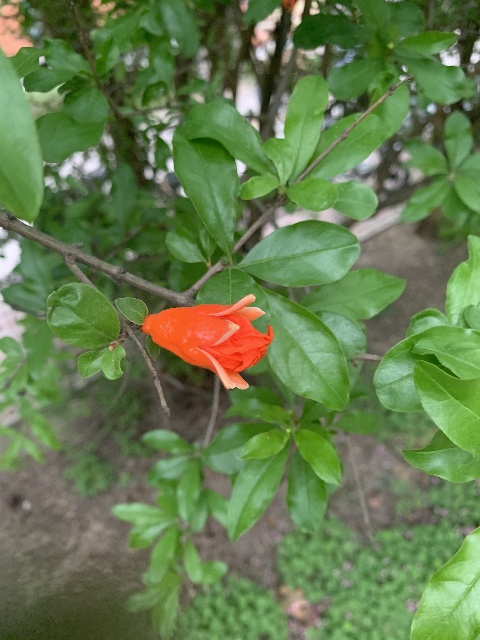flower: (141, 293, 274, 390)
